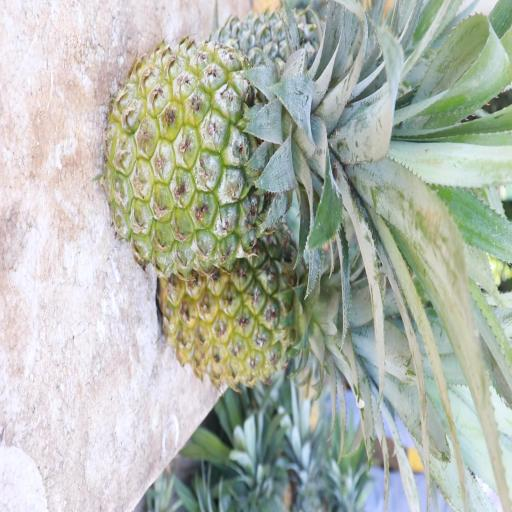------------------------------: (102, 29, 404, 278)
Pineapple - v8 v1: (156, 206, 392, 396)
